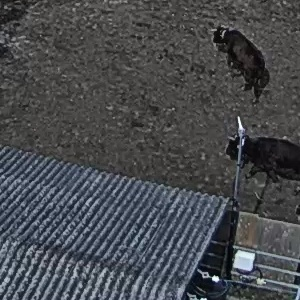cow: (204, 17, 280, 107), (214, 122, 300, 180)
